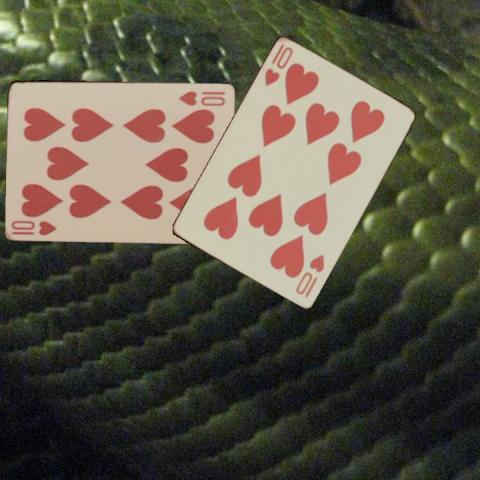10h: (261, 40, 295, 88), (293, 251, 326, 300), (177, 88, 227, 108), (9, 217, 58, 236)
